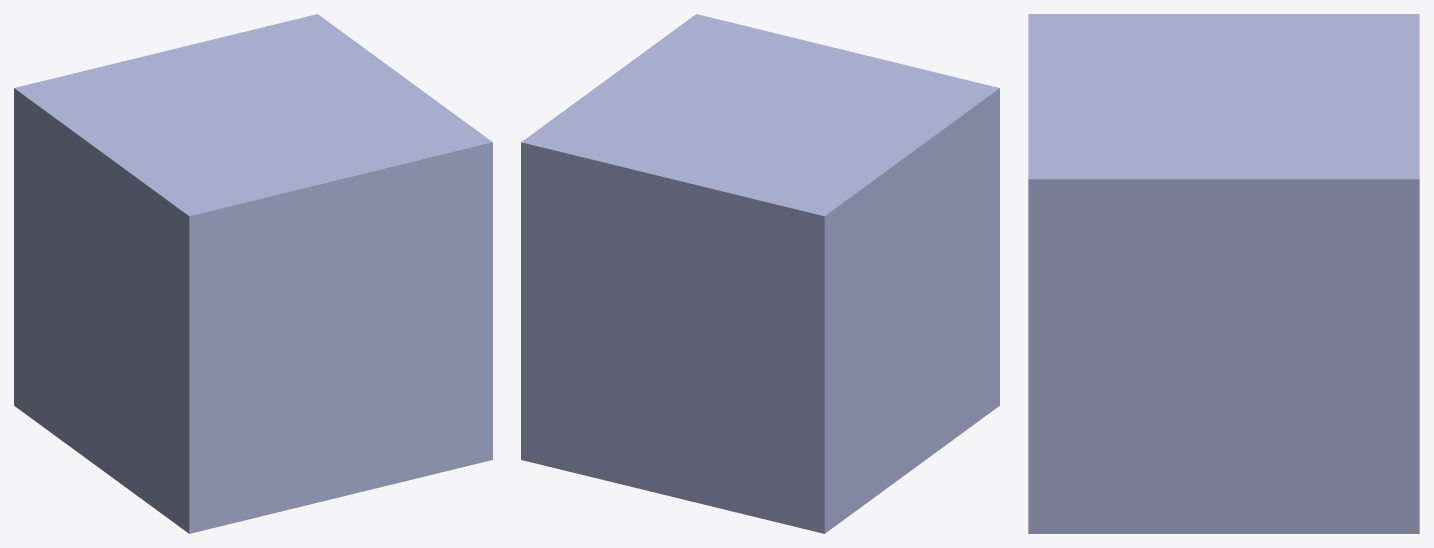
File: Shushi.glb
3 views of the same model, side by side, from view 1: azimuth 30°, elevation 25°; view 2: azimuth 150°, elevation 25°; view 3: azimuth 270°, elevation 25° (orthographic). The views are drawn at different scales.
Visible parts, largest first — view 1: Cube.036; view 2: Cube.036; view 3: Cube.036.
Part boxes in pixels (x1,y1,x2,y2): Cube.036: [14, 14, 492, 533]; Cube.036: [521, 14, 999, 533]; Cube.036: [1028, 14, 1419, 533].
Bounding box in the file's own units: 100 × 100 × 100.
